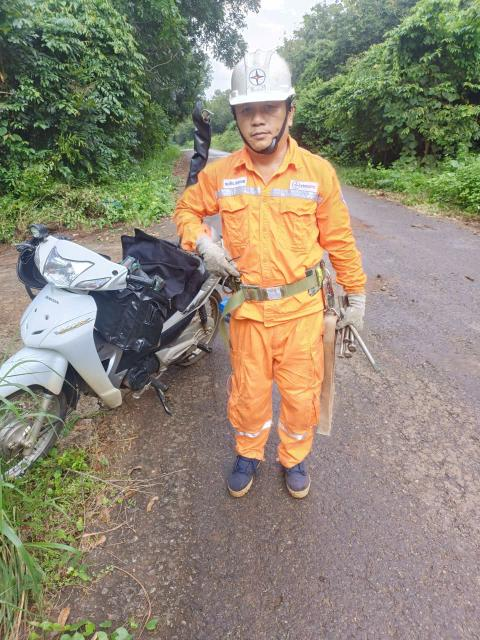gloves: (328, 282, 374, 345), (192, 236, 243, 278)
harness: (218, 269, 338, 306)
helmet: (223, 53, 299, 112)
shoes: (217, 437, 269, 503), (278, 445, 324, 509)
